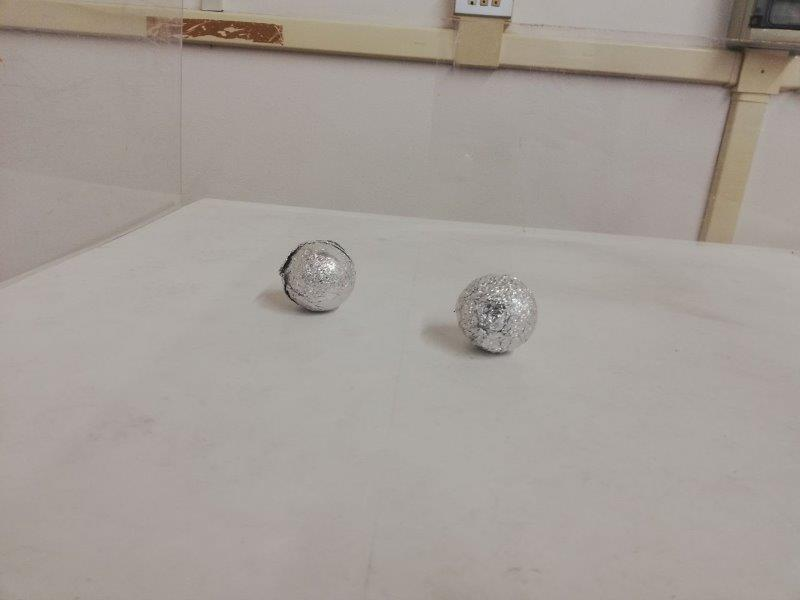bianca: (456, 268, 538, 354), (278, 241, 359, 312)
